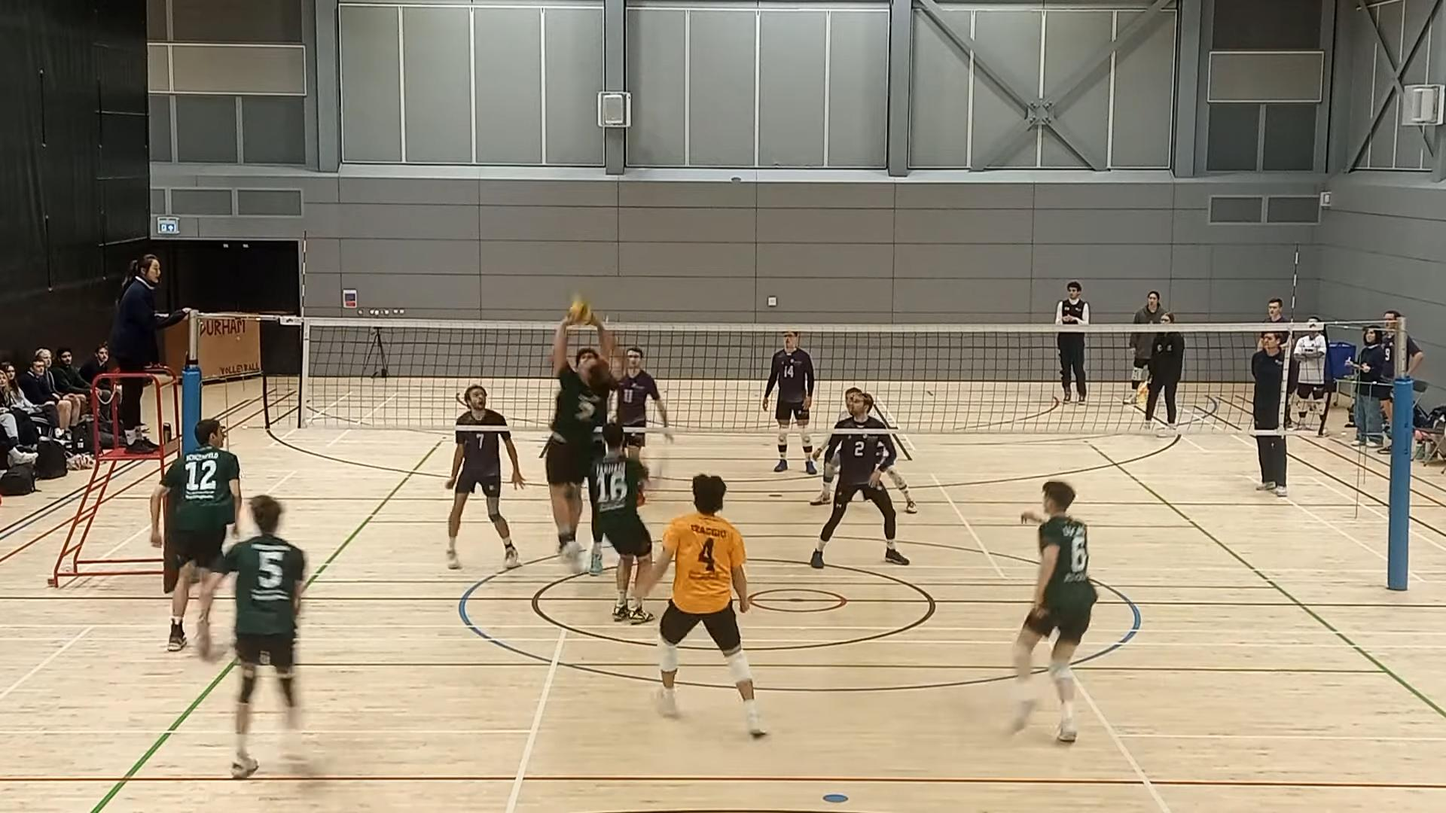Player: (638, 474, 765, 736), (202, 495, 305, 778), (1013, 481, 1097, 742), (150, 419, 240, 650), (810, 392, 909, 568), (445, 385, 524, 568), (590, 422, 653, 623), (761, 330, 816, 474), (616, 347, 668, 430), (810, 452, 839, 505)
Set: (546, 309, 618, 569)
ball: (562, 301, 596, 326)
